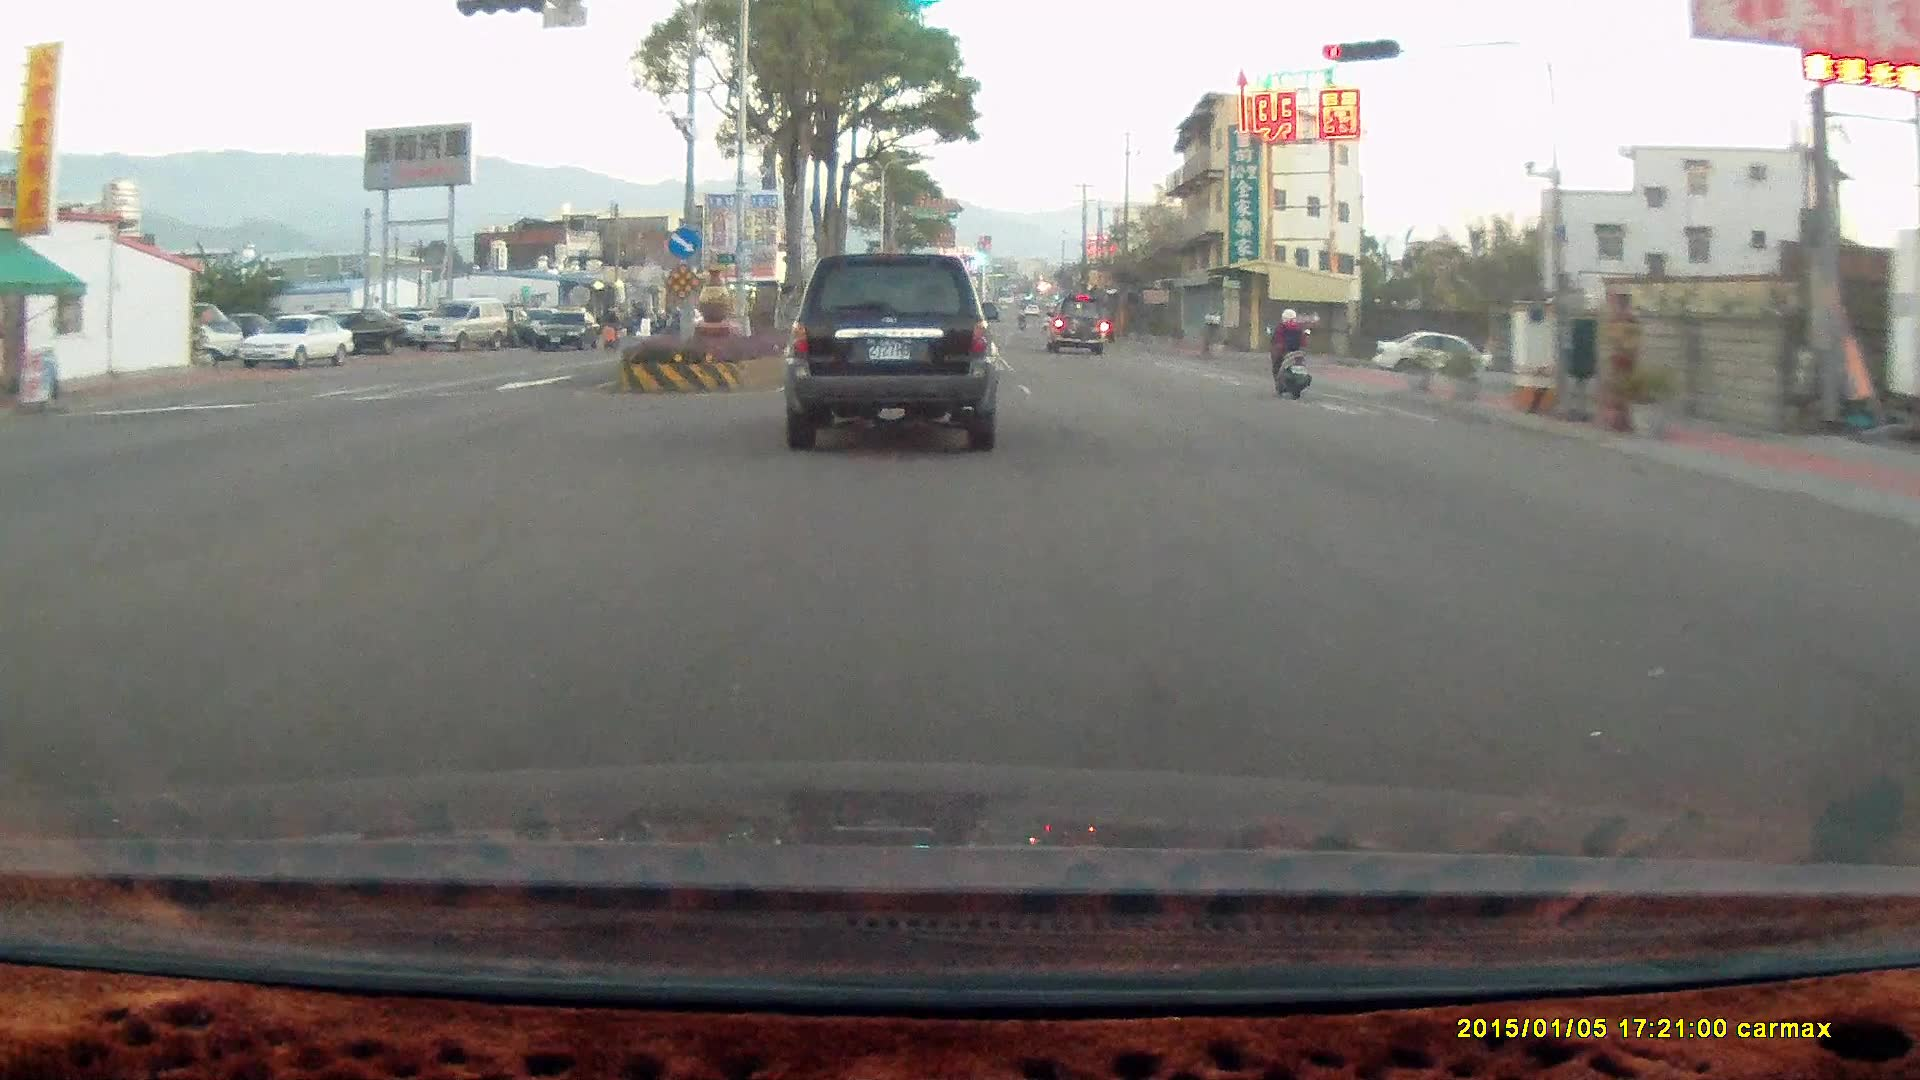rider: (1257, 298, 1324, 409), (1260, 301, 1307, 395), (596, 306, 619, 355)
vehicle: (779, 253, 998, 450), (792, 256, 1007, 455), (1371, 329, 1495, 385), (244, 309, 358, 368), (241, 308, 355, 367), (1379, 330, 1496, 382), (412, 298, 510, 353), (316, 308, 407, 353), (1043, 293, 1106, 352), (1050, 295, 1107, 357), (536, 310, 604, 352), (535, 308, 602, 348)
